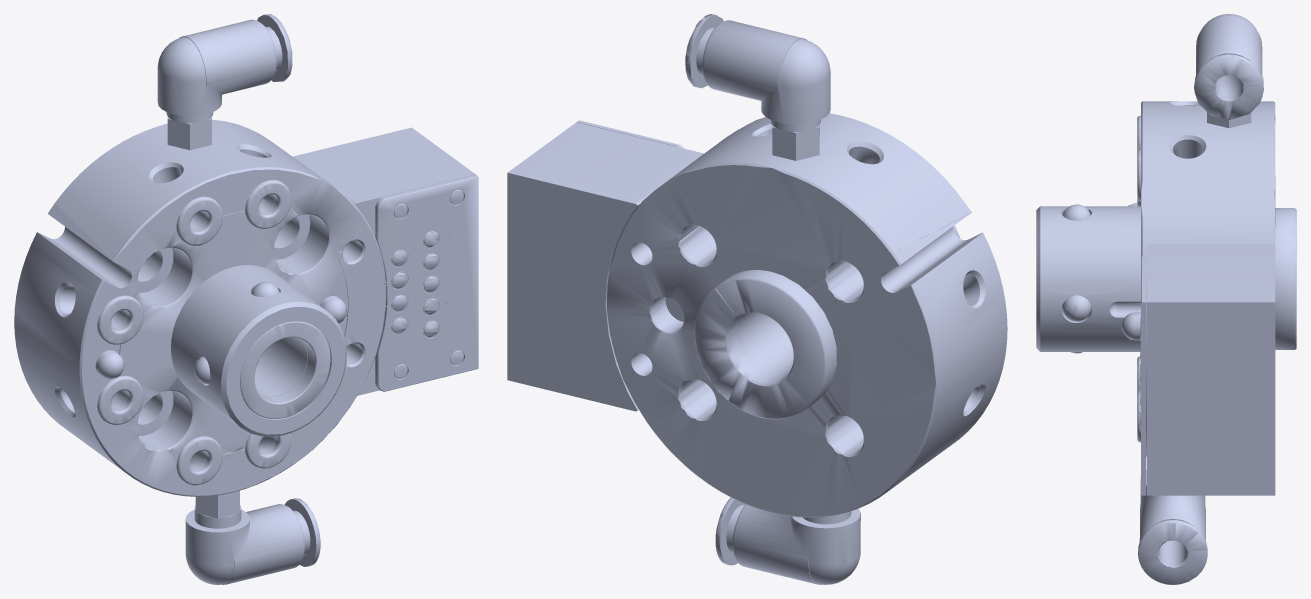
File: changer_master.glb
3 renders of one model, left to right at view 1: azimuth 30°, elevation 25°; view 2: azimuth 150°, elevation 25°; view 3: azimuth 270°, elevation 25°, orthographic. The views are drawn at different scales.
Bounding box in the file's own units: 0.0649 × 0.082 × 0.0366.
